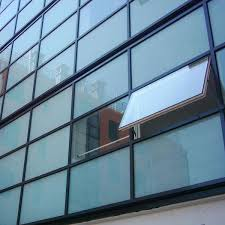glass_panel: (134, 115, 224, 196), (132, 8, 208, 86), (120, 59, 207, 127), (69, 148, 129, 212), (72, 98, 129, 162), (74, 53, 127, 116), (77, 8, 126, 69), (20, 171, 66, 223), (26, 127, 68, 179), (30, 87, 71, 138), (35, 45, 74, 96), (130, 0, 186, 34), (39, 14, 76, 64), (79, 0, 125, 34), (2, 75, 33, 117), (7, 45, 37, 88), (42, 0, 77, 35), (11, 19, 40, 61), (0, 113, 29, 154), (0, 149, 24, 188), (16, 0, 43, 30), (0, 188, 21, 225), (208, 0, 224, 44), (0, 45, 11, 70)
